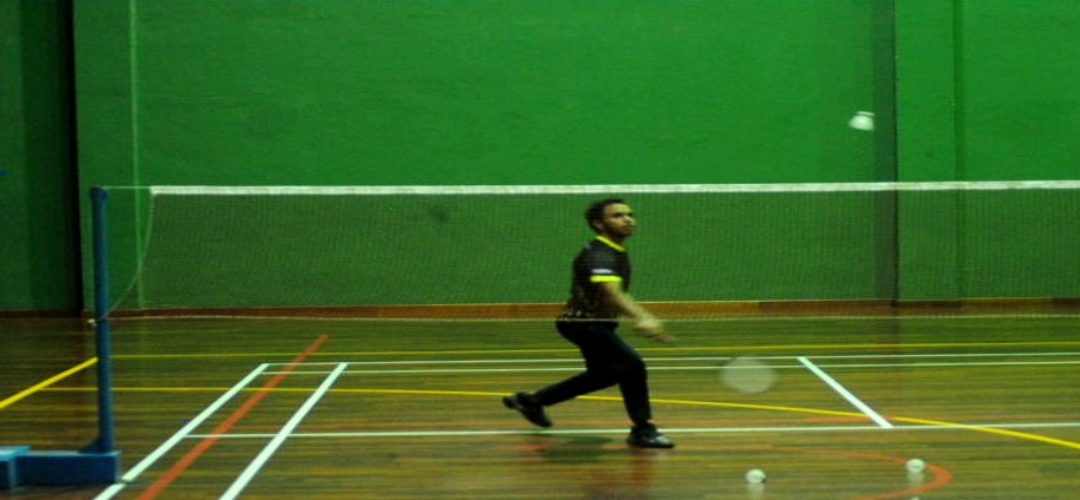c1: (272, 426, 295, 447)
c2: (868, 416, 902, 437)
player: (502, 199, 686, 452)
shuttle: (850, 105, 880, 136)
